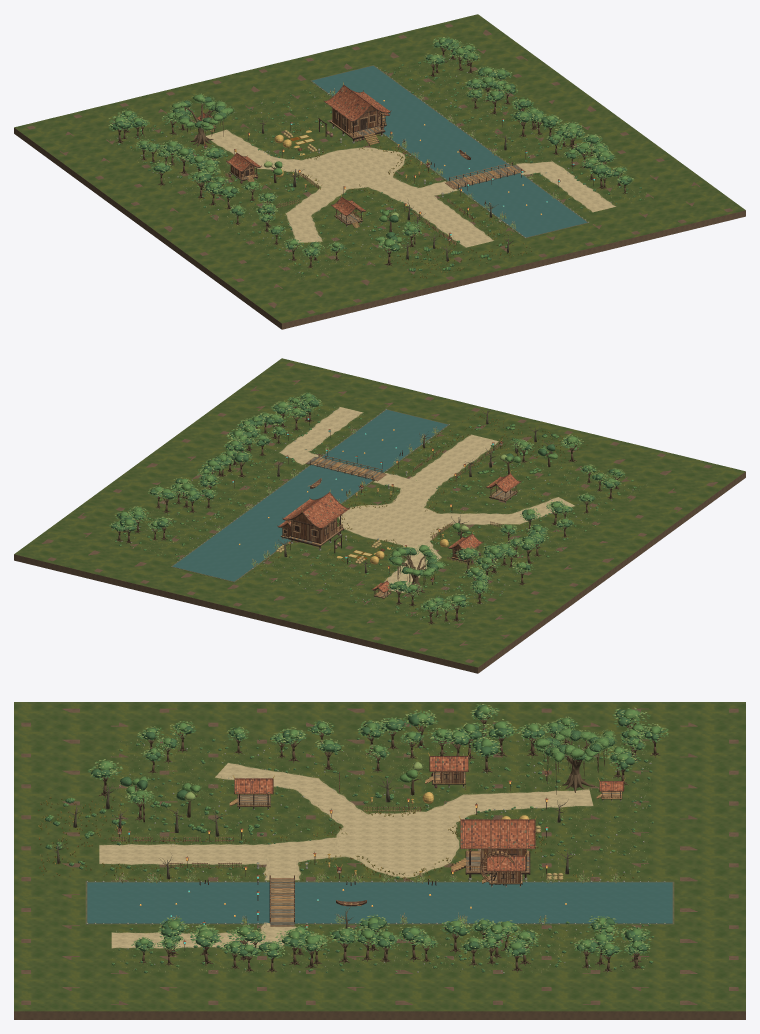
Rendered from moonlit-mill.glb.
3 views of the same model, one above another, from view 1: azimuth 30°, elevation 25°; view 2: azimuth 150°, elevation 25°; view 3: azimuth 270°, elevation 25° (orthographic). The views are drawn at different scales.
Visible parts, largest first — view 1: Ground - dry meadow | meadow_dry, Water surface | water, Tracks - worn earth | path, Soil foundation | earth, Organic tree foliage | leaf, Organic tree foliage | leaf2, Fine outer tree leaves | leaf3, Feathered road shoulders | path_edge, Fine outer tree leaves | leaf2, Fine outer tree leaves | leaf4, Fine outer tree leaves | leaf, Roof / overlapping clay tiles | roof (+8 smaller); view 2: Ground - dry meadow | meadow_dry, Water surface | water, Tracks - worn earth | path, Soil foundation | earth, Organic tree foliage | leaf, Organic tree foliage | leaf2, Fine outer tree leaves | leaf3, Fine outer tree leaves | leaf2, Fine outer tree leaves | leaf4, Feathered road shoulders | path_edge, Fine outer tree leaves | leaf, Roof / overlapping clay tiles | roof (+9 smaller); view 3: Ground - dry meadow | meadow_dry, Water surface | water, Tracks - worn earth | path, Soil foundation | earth, Organic tree foliage | leaf, Organic tree foliage | leaf2, Fine outer tree leaves | leaf3, Feathered road shoulders | path_edge, Fine outer tree leaves | leaf2, Fine outer tree leaves | leaf4, Roof / overlapping clay tiles | roof, Fine outer tree leaves | leaf (+28 smaller).
Boxes of the visible parts, x1,y1,x2,y2 form: Ground - dry meadow | meadow_dry: [14, 14, 745, 323]; Water surface | water: [312, 65, 587, 237]; Tracks - worn earth | path: [206, 130, 613, 246]; Soil foundation | earth: [14, 23, 745, 329]; Organic tree foliage | leaf: [111, 38, 631, 255]; Organic tree foliage | leaf2: [114, 38, 628, 253]; Fine outer tree leaves | leaf3: [108, 37, 633, 256]; Feathered road shoulders | path_edge: [207, 129, 616, 247]; Fine outer tree leaves | leaf2: [109, 36, 633, 254]; Fine outer tree leaves | leaf4: [110, 37, 632, 256]; Fine outer tree leaves | leaf: [109, 40, 632, 259]; Roof / overlapping clay tiles | roof: [198, 86, 448, 238]; Ground - dry meadow | meadow_dry: [14, 358, 745, 667]; Water surface | water: [172, 409, 447, 581]; Tracks - worn earth | path: [282, 407, 573, 592]; Soil foundation | earth: [14, 362, 745, 673]; Organic tree foliage | leaf: [111, 393, 622, 610]; Organic tree foliage | leaf2: [115, 393, 620, 608]; Fine outer tree leaves | leaf3: [111, 392, 624, 610]; Fine outer tree leaves | leaf2: [110, 392, 624, 612]; Fine outer tree leaves | leaf4: [109, 392, 624, 611]; Feathered road shoulders | path_edge: [279, 407, 574, 592]; Fine outer tree leaves | leaf: [111, 395, 624, 612]; Roof / overlapping clay tiles | roof: [278, 442, 519, 591]; Ground - dry meadow | meadow_dry: [14, 702, 745, 1011]; Water surface | water: [87, 882, 672, 923]; Tracks - worn earth | path: [99, 764, 592, 946]; Soil foundation | earth: [14, 708, 745, 1019]; Organic tree foliage | leaf: [91, 705, 661, 957]; Organic tree foliage | leaf2: [98, 705, 660, 952]; Fine outer tree leaves | leaf3: [89, 704, 667, 955]; Feathered road shoulders | path_edge: [99, 763, 593, 948]; Fine outer tree leaves | leaf2: [88, 703, 668, 958]; Fine outer tree leaves | leaf4: [90, 704, 668, 957]; Roof / overlapping clay tiles | roof: [118, 756, 623, 870]; Fine outer tree leaves | leaf: [88, 709, 666, 958].
Bounding box in the file's own units: 180 × 17.24 × 180.
48 materials, 48 textured.
